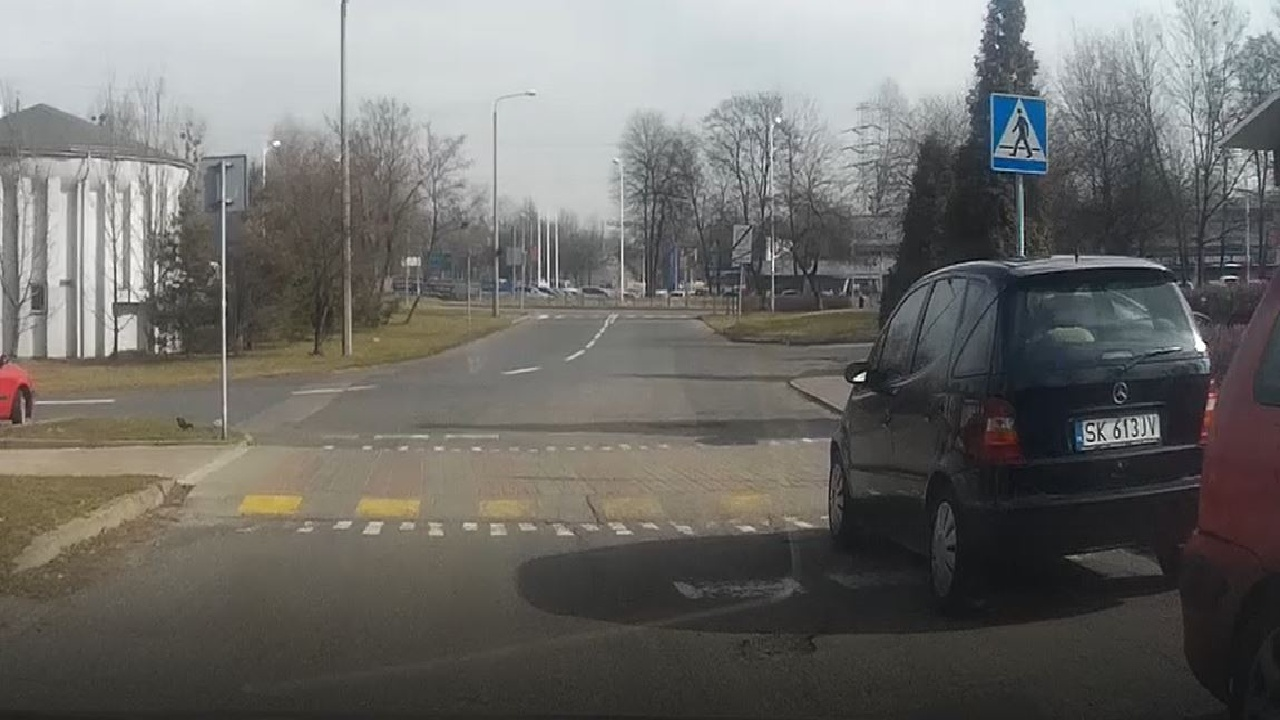D6: (984, 85, 1057, 176)
